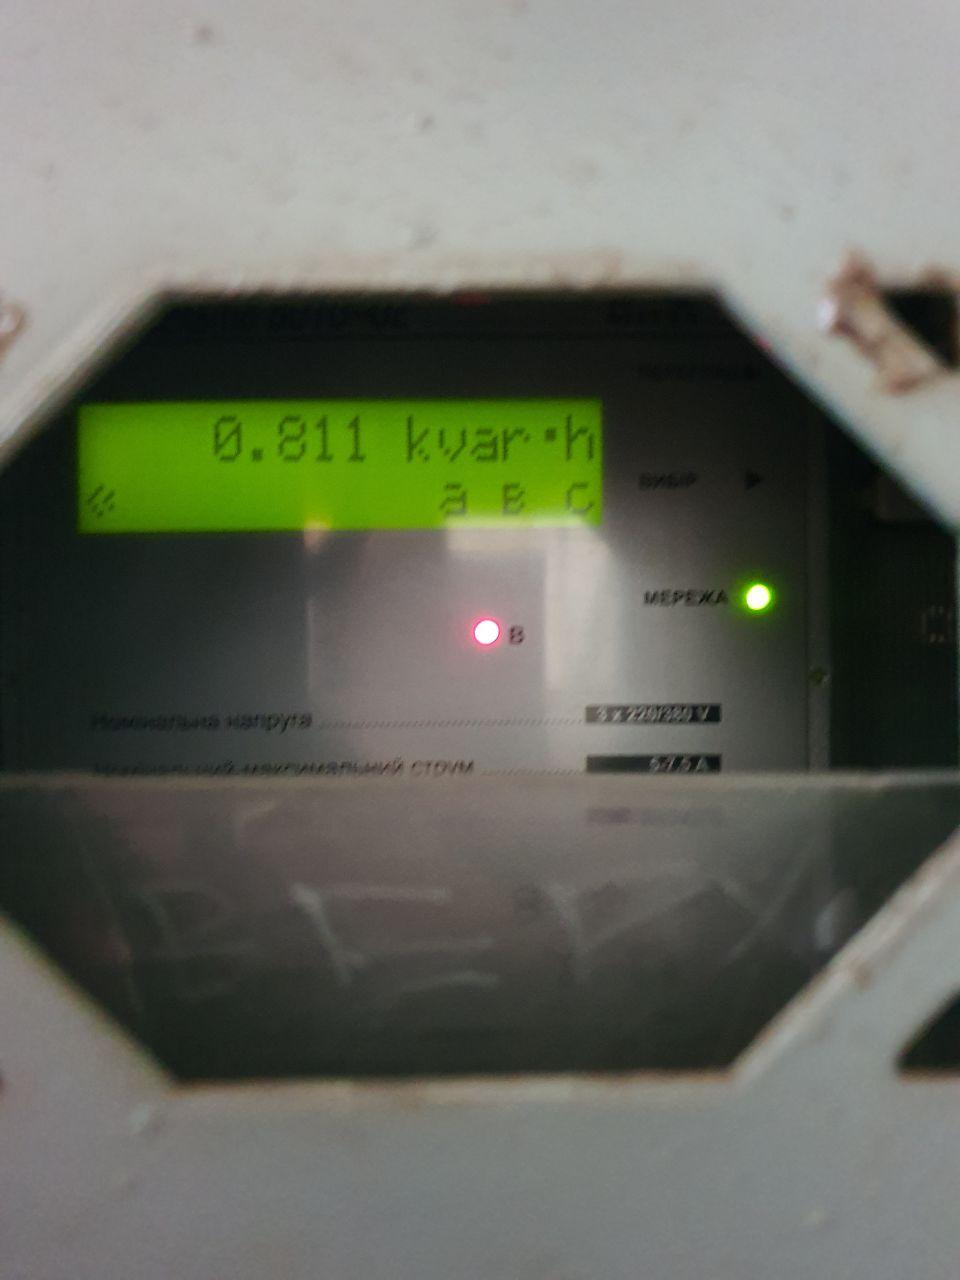counter: (28, 293, 868, 966)
counter_screen: (71, 396, 610, 533)
